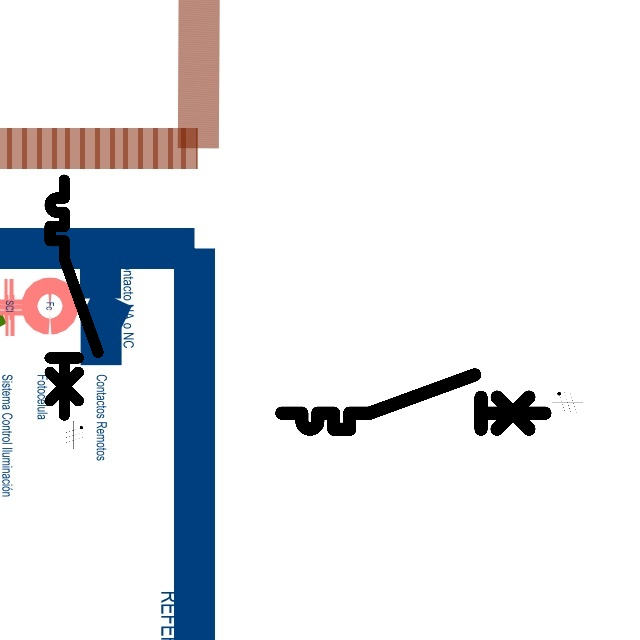interruptor_termomagnetico: (275, 368, 552, 436), (44, 174, 104, 421)
